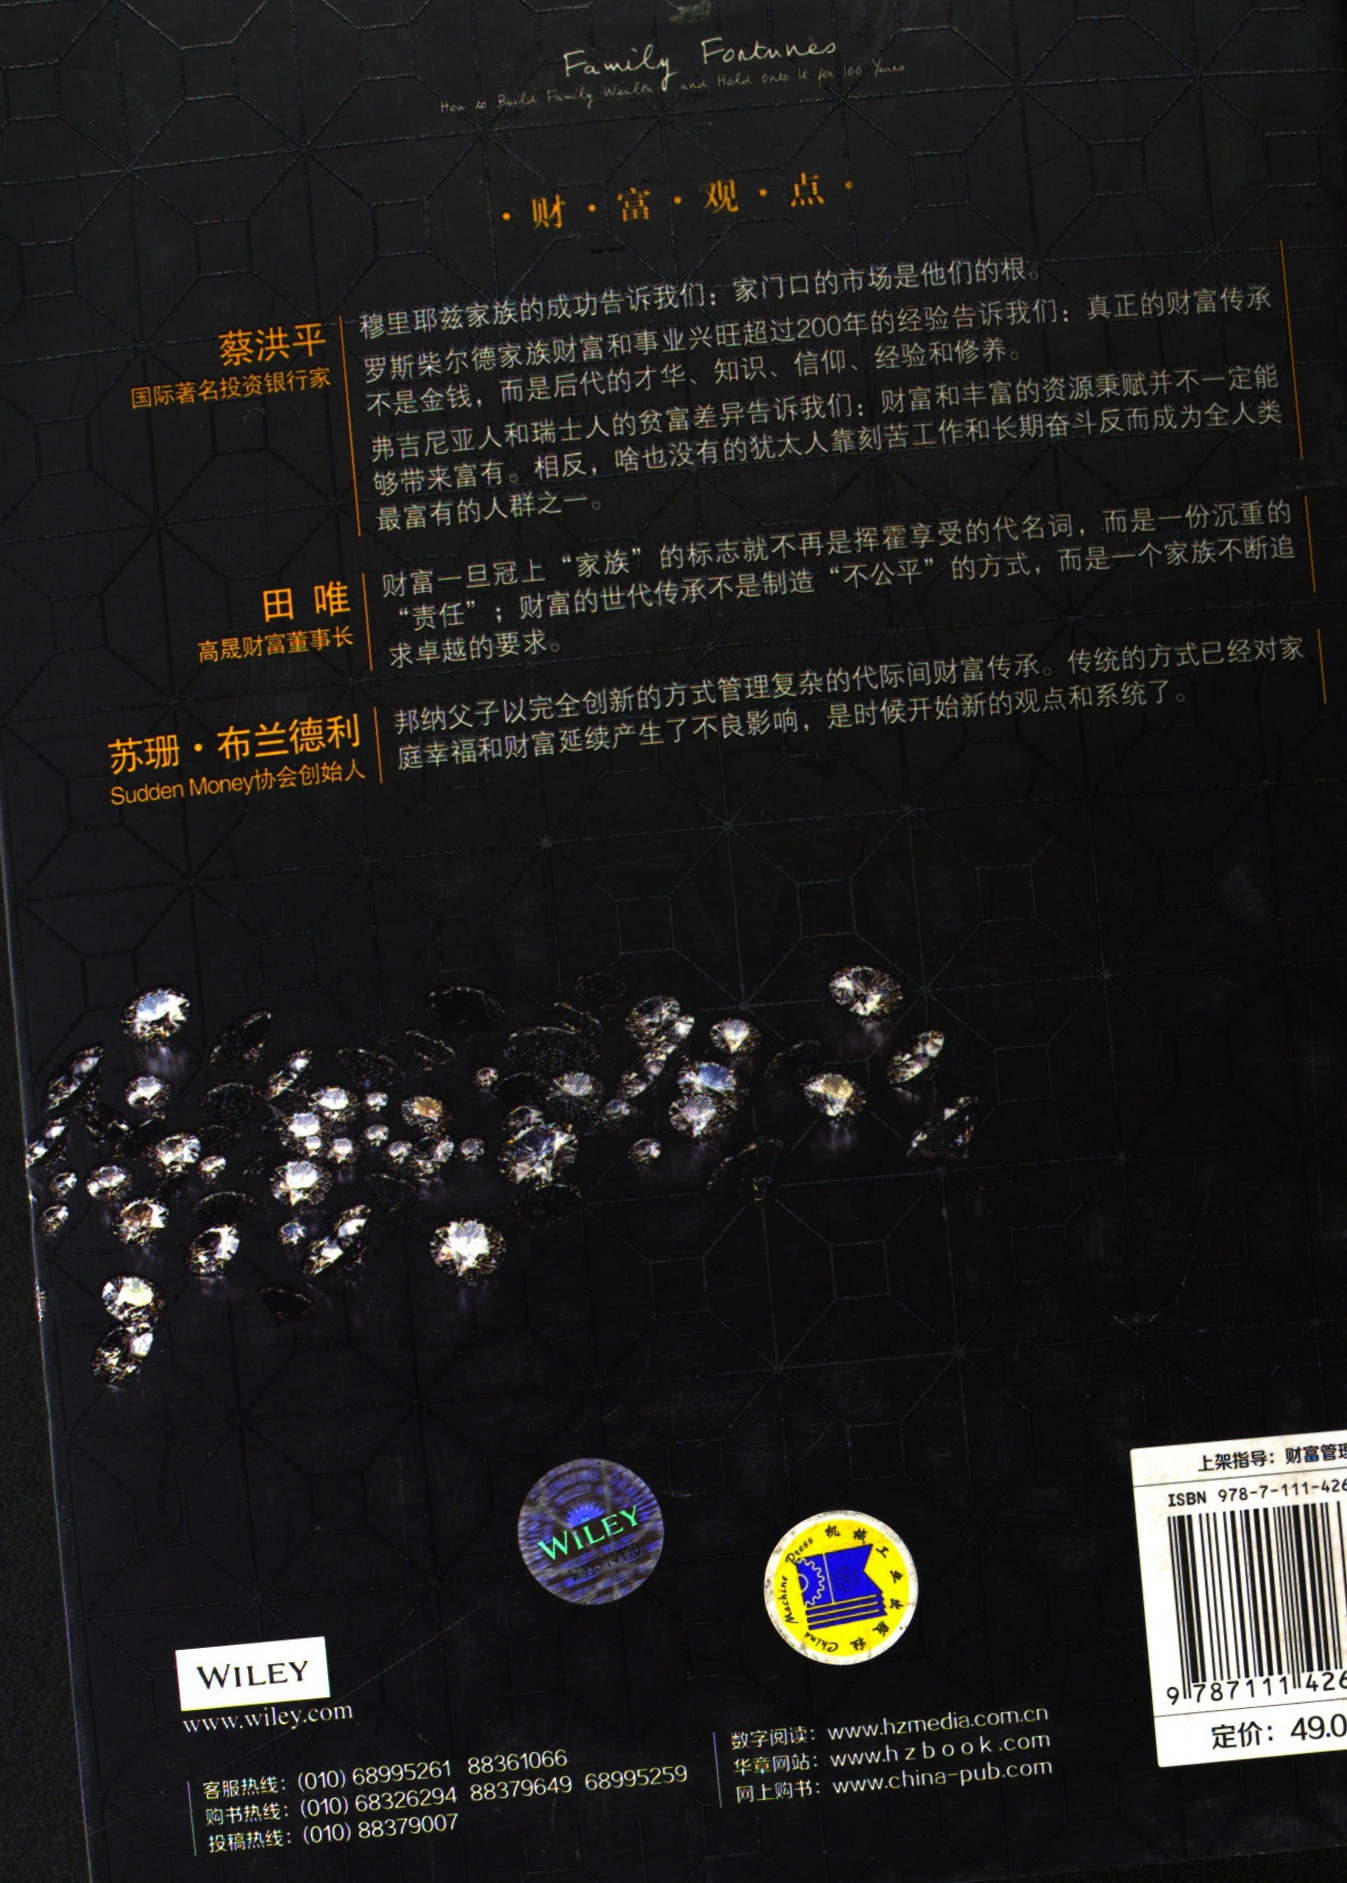barcode: (1133, 1444, 1347, 1777)
